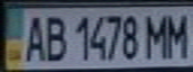1: (69, 12, 90, 61)
4: (87, 11, 109, 61)
7: (106, 11, 124, 61)
8: (121, 11, 142, 61)
A: (18, 11, 48, 63)
B: (39, 11, 69, 62)
M: (142, 10, 172, 60), (163, 9, 193, 58)
